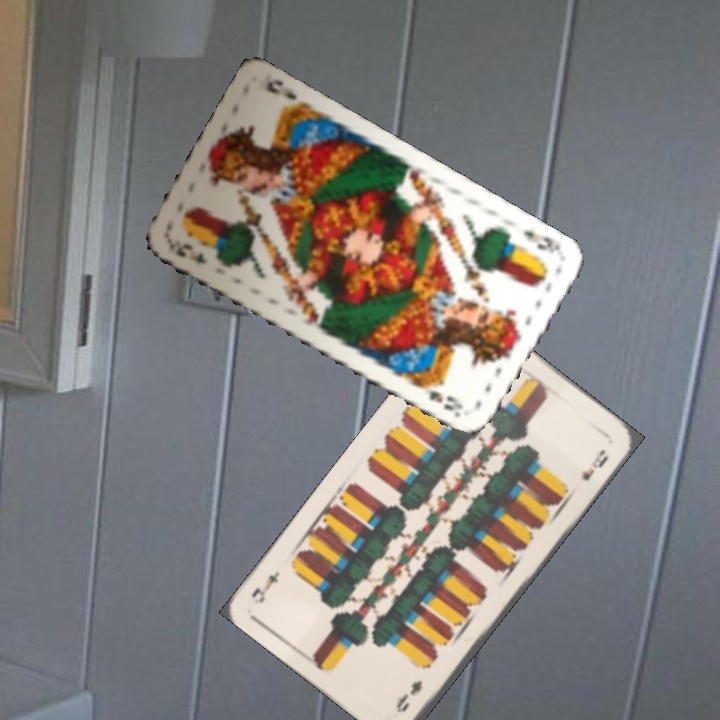E9: (391, 676, 425, 716)
EK: (518, 226, 565, 257), (171, 238, 210, 267)
